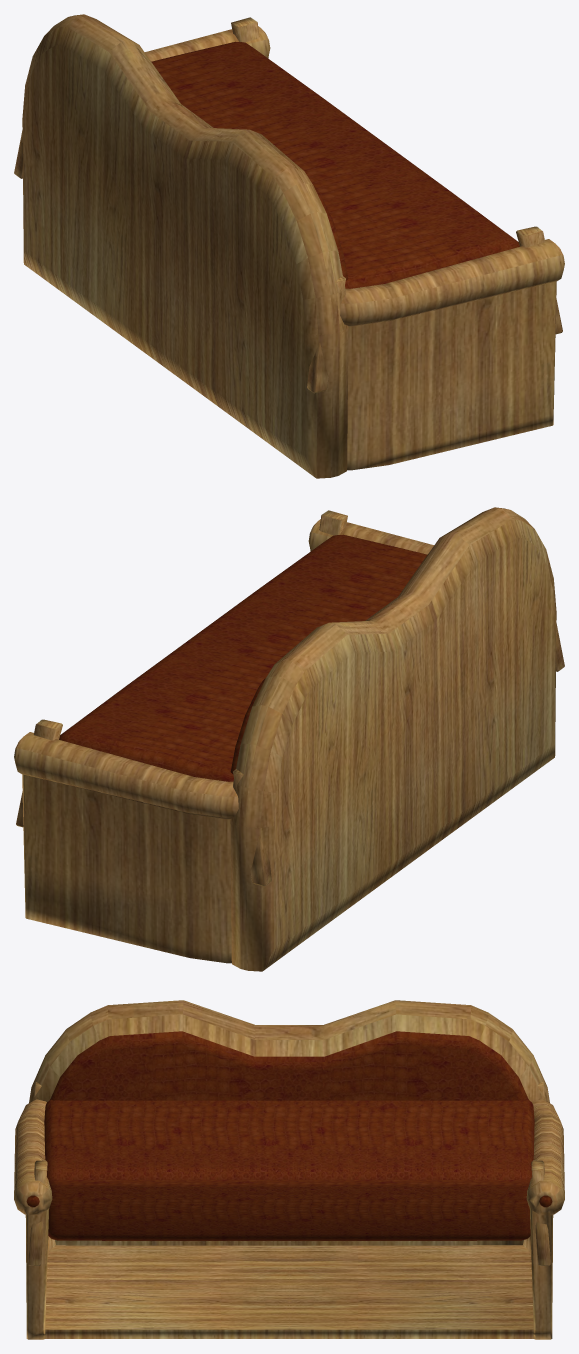
3 renders of one model, top to bottom at view 1: azimuth 30°, elevation 25°; view 2: azimuth 150°, elevation 25°; view 3: azimuth 270°, elevation 25°, orthographic. The views are drawn at different scales.
Visible parts, largest first — view 1: Plane.001, Cube.012, R frontleg.001; view 2: Plane.001, Cube.012, R frontleg.001; view 3: Plane.001, Cube.012, R frontleg.001.
Boxes of the visible parts, x1,y1,x2,y2 form: Plane.001: [22, 14, 564, 478]; Cube.012: [152, 41, 519, 288]; R frontleg.001: [14, 17, 562, 393]; Plane.001: [14, 507, 556, 971]; Cube.012: [59, 534, 426, 781]; R frontleg.001: [16, 510, 564, 886]; Plane.001: [14, 1000, 564, 1339]; Cube.012: [44, 1099, 534, 1240]; R frontleg.001: [27, 1081, 551, 1265].
Size of the model in its own units: 23195 by 24968 by 50787.
Materials: 4 (4 with a texture image).
